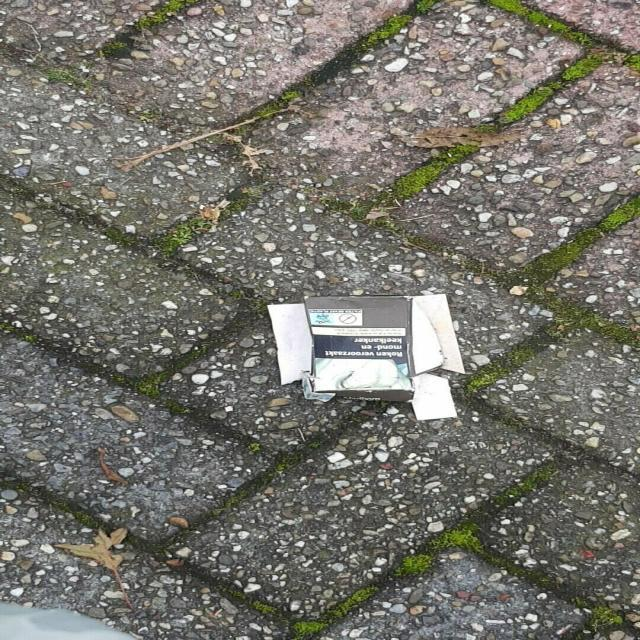Paper: (263, 292, 469, 422)
